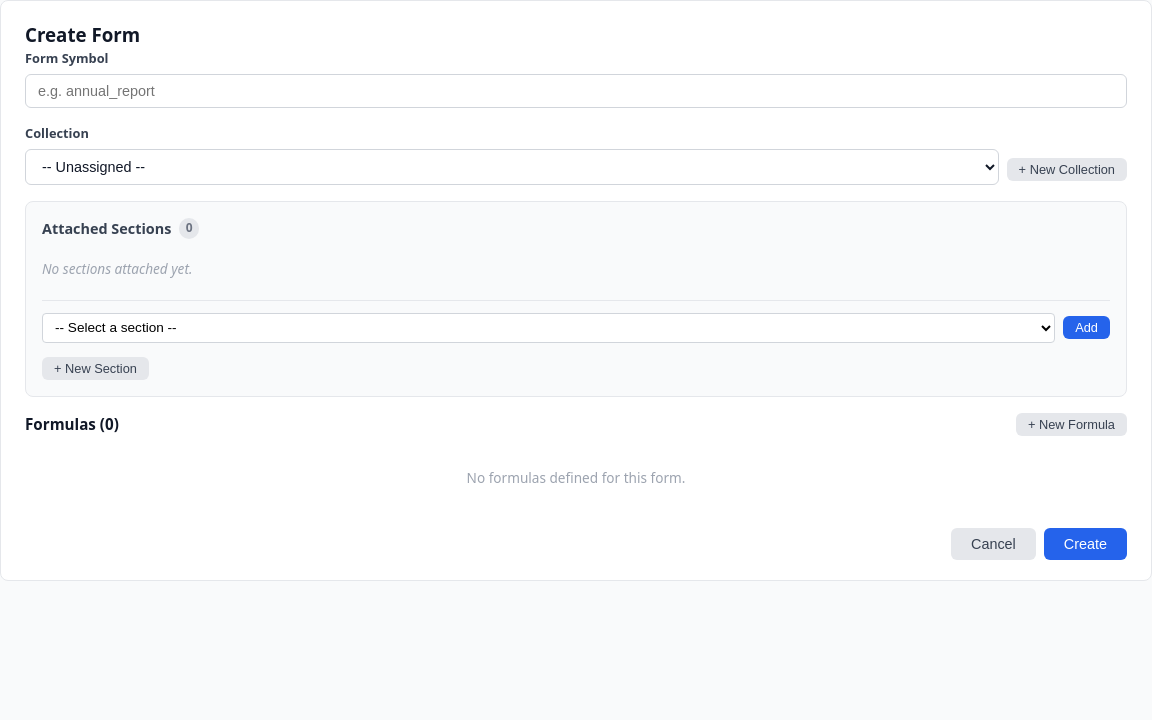
Test case: FormForm › given an invalid symbol pattern › when submitted, then shows symbol pattern validation error
Type "hello world" into the field labelled "Form Symbol" at (576,91), box [25,74,1127,108]
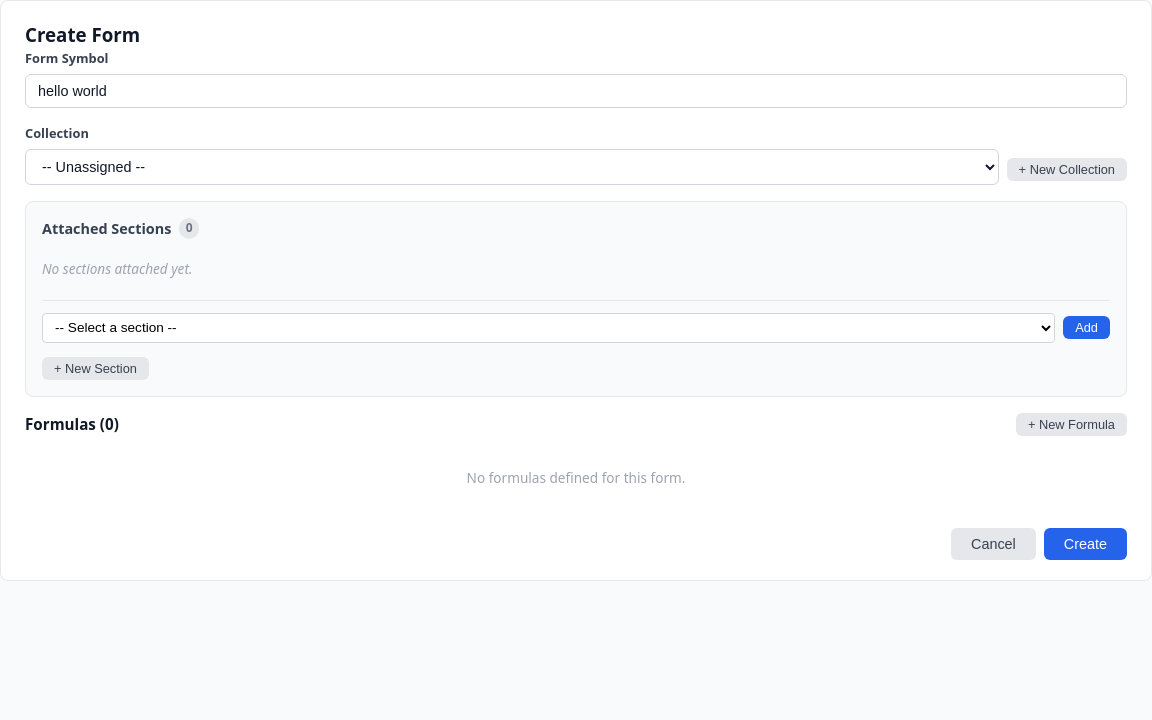
Click the button "Create" at (1085,544), box [1044,528,1127,560]
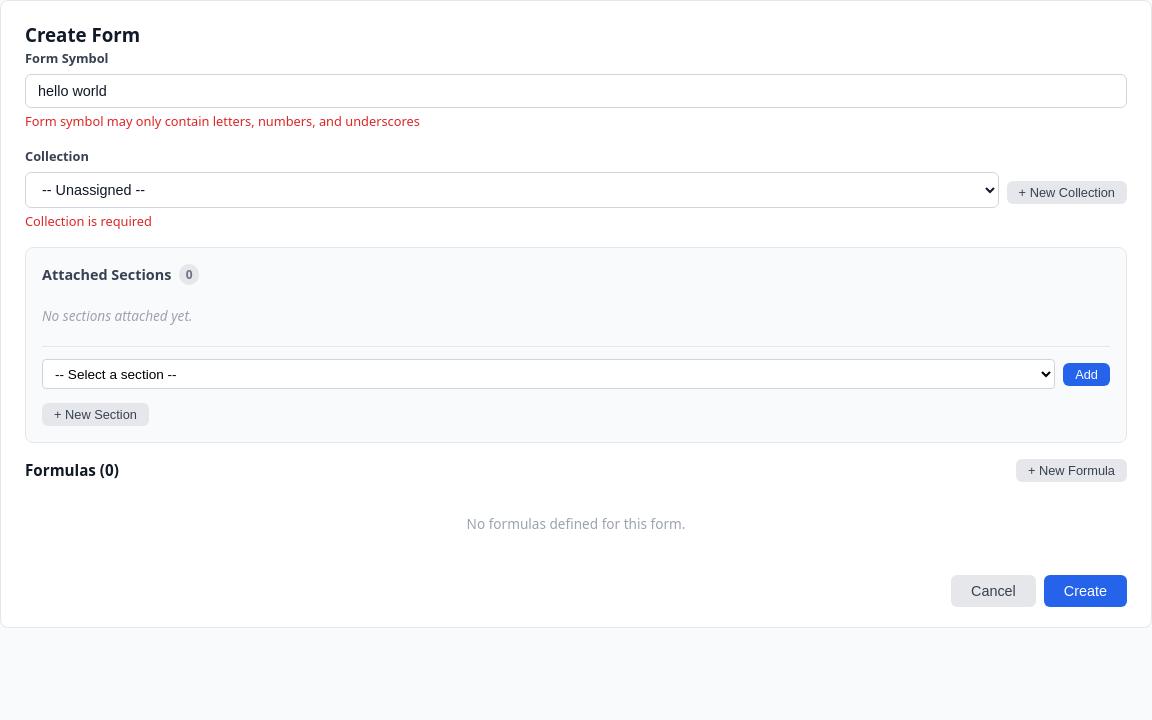
Expected: the text "Form symbol may only contain letters, numbers, and underscores" is shown, [25,112,420,130]
